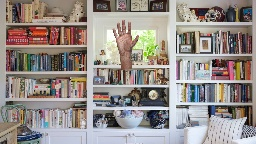Mano_aperta: (110, 18, 140, 52)
